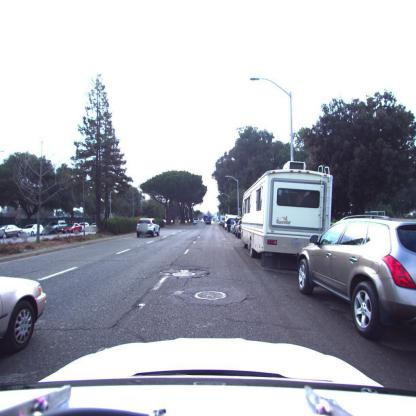car: (296, 216, 416, 347), (1, 241, 49, 375), (136, 218, 160, 238), (42, 221, 70, 235), (0, 225, 24, 240), (20, 225, 43, 237)
truck: (240, 164, 335, 278)
